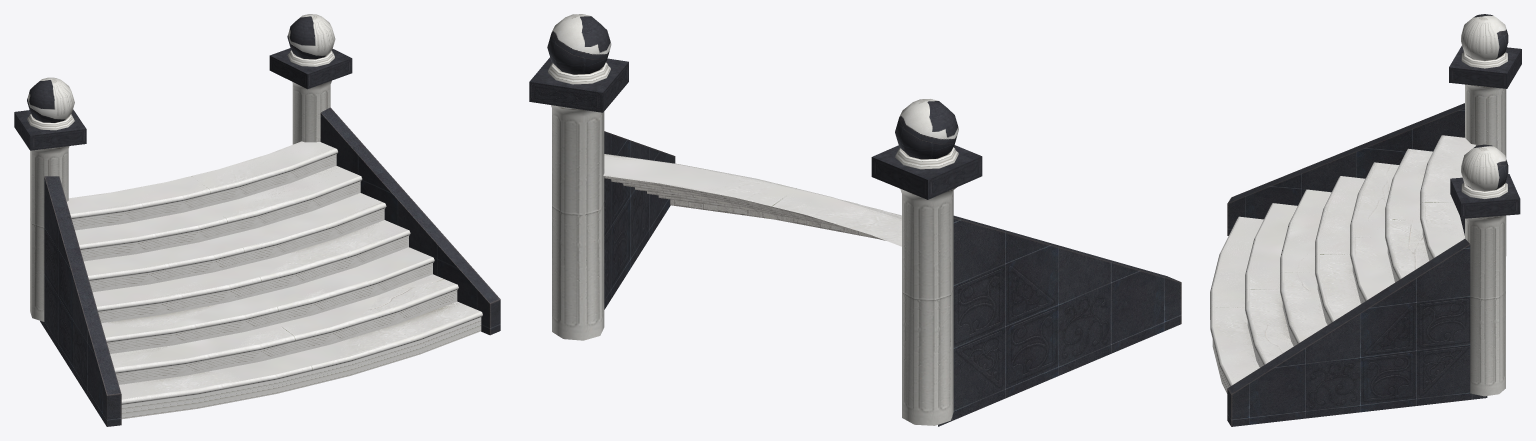
File: stairs_02.fbx
3 views of the same model, side by side, from view 1: azimuth 30°, elevation 25°; view 2: azimuth 150°, elevation 25°; view 3: azimuth 270°, elevation 25° (orthographic). The views are drawn at different scales.
Parts seen in each view (by area): view 1: dumy, polySurface39, polySurface40; view 2: polySurface39, polySurface40, dumy; view 3: polySurface39, dumy, polySurface40.
Part boxes in pixels (box(x1,y1,x2,y2)): dumy: box(67, 142, 481, 419); polySurface39: box(14, 48, 500, 426); polySurface40: box(27, 14, 335, 122); polySurface39: box(529, 57, 1181, 426); polySurface40: box(547, 14, 958, 159); dumy: box(604, 157, 901, 244); polySurface39: box(1210, 45, 1521, 426); dumy: box(1212, 136, 1473, 393); polySurface40: box(1461, 14, 1508, 191).
Size of the model in its own units: 12.95 by 7.56 by 8.64.
